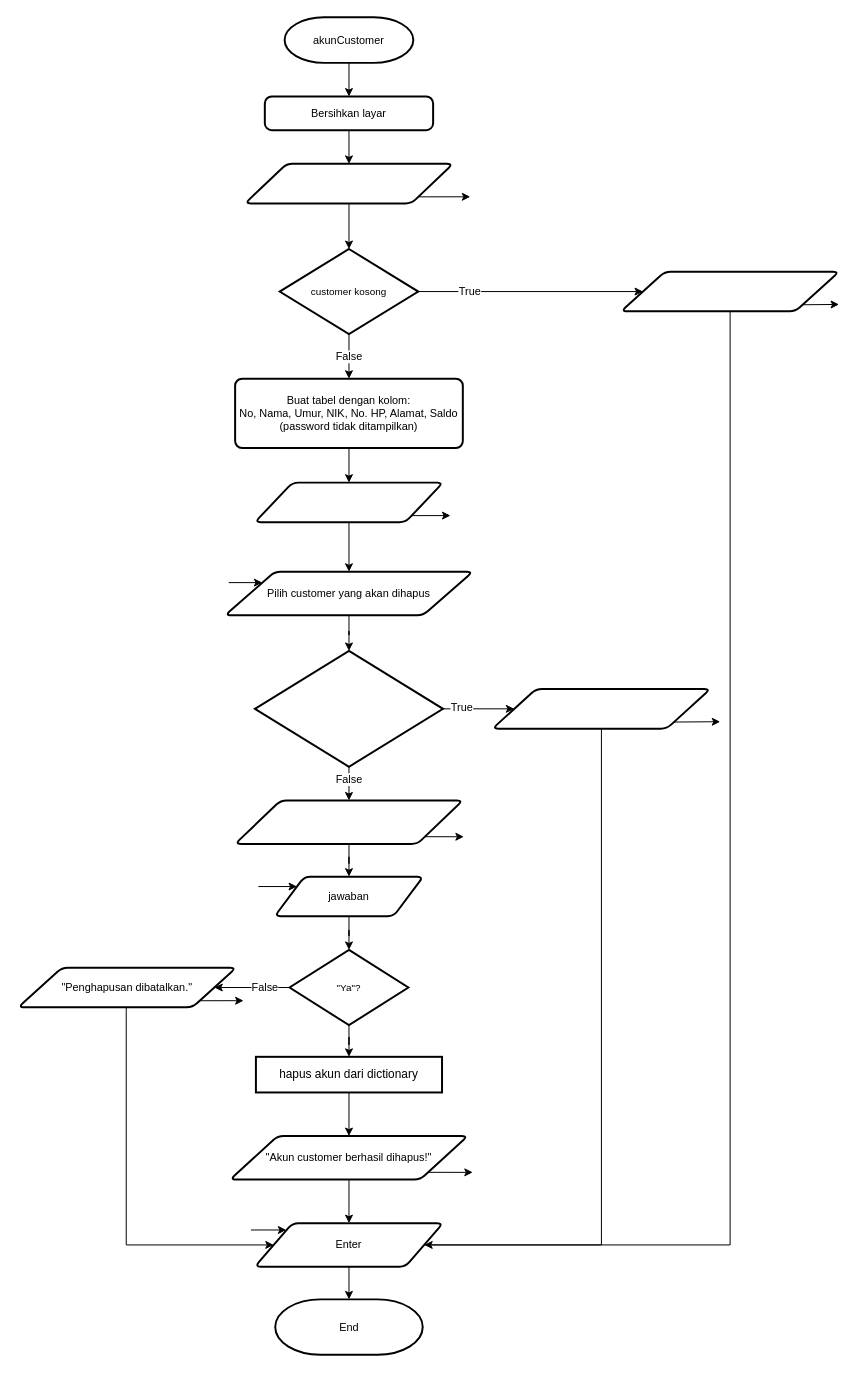
This 864x1373 diagram has some shape labels left out. Each missing label, with the centre of its shape:
"=== AKUN CUSTOMER ===": (x=348, y=183)
"Belum ada akun customer.": (x=730, y=291)
"Customer memiliki transaksi berjalan": (x=601, y=708)
"Yakin ingin menghapus akun?" (Ya / Tidak): (x=348, y=821)
customer ada transaksi yang sedang berjalan?: (x=348, y=708)
Tampilkan tabel ke layar: (x=348, y=502)
